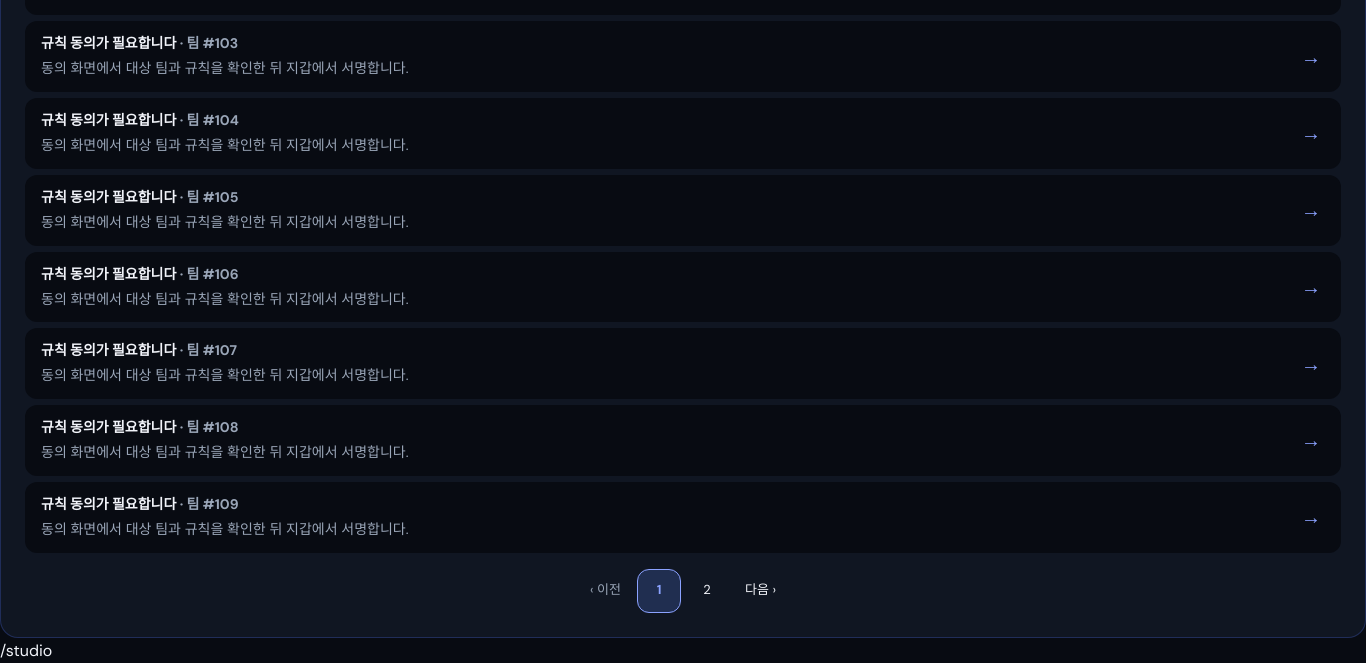
Test: 확인할 일 — 할 일 행 10개씩 페이지 › 11개면 1페이지 10개, 다음 페이지에 1개와 이어지는 묶음 머리가 나온다
(page scrolled)
expect the button with aria-label "이전 페이지" is disabled: met, box [578,568,633,612]
expect the navigation bar named "확인할 일 페이지" is shown: met, box [578,568,788,612]
Click the button with aria-label "다음 페이지" at (760, 590), box [733,568,788,612]
(page scrolled)
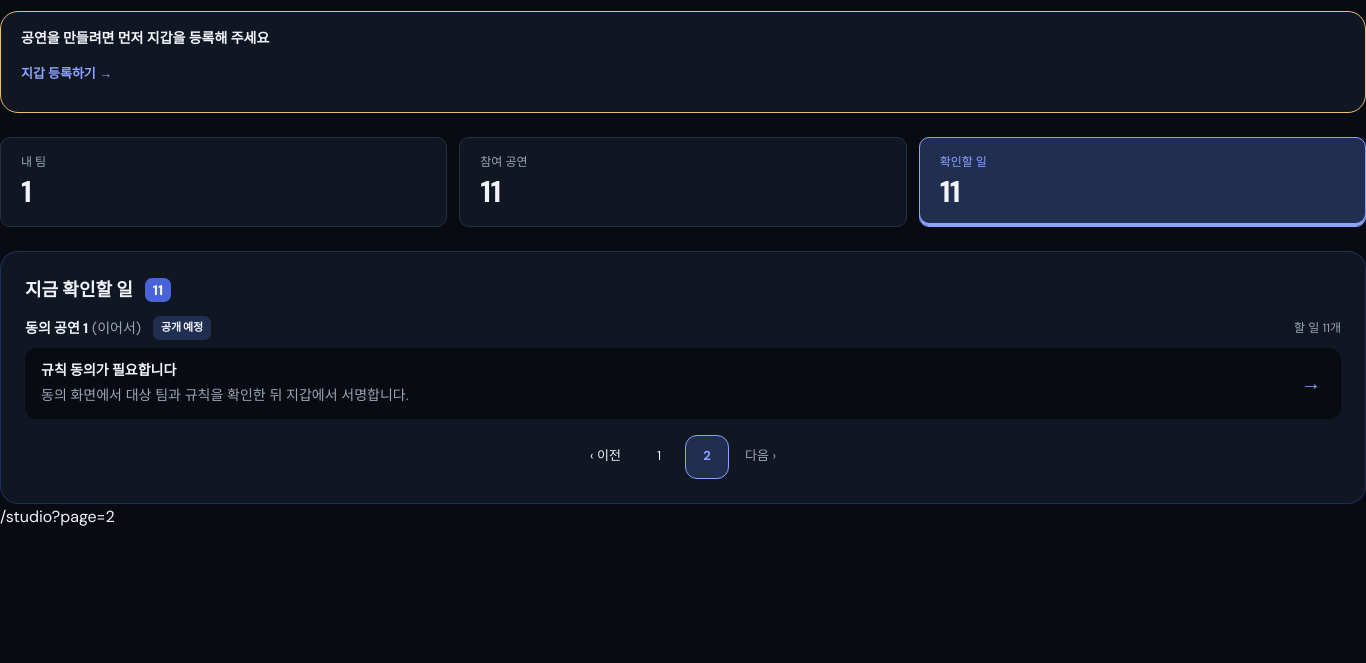
expect the text with test id "location" reads "/studio?page=2": met, box [0,506,115,527]
expect the number of list items is 1: met, box [25,348,1341,419]
expect the button with aria-label "다음 페이지" is disabled: met, box [733,435,788,479]
